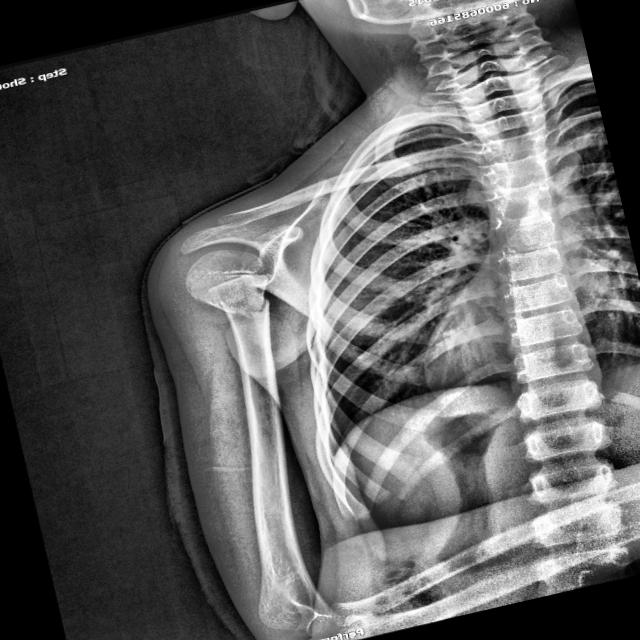Fracture: (215, 334, 297, 432)
